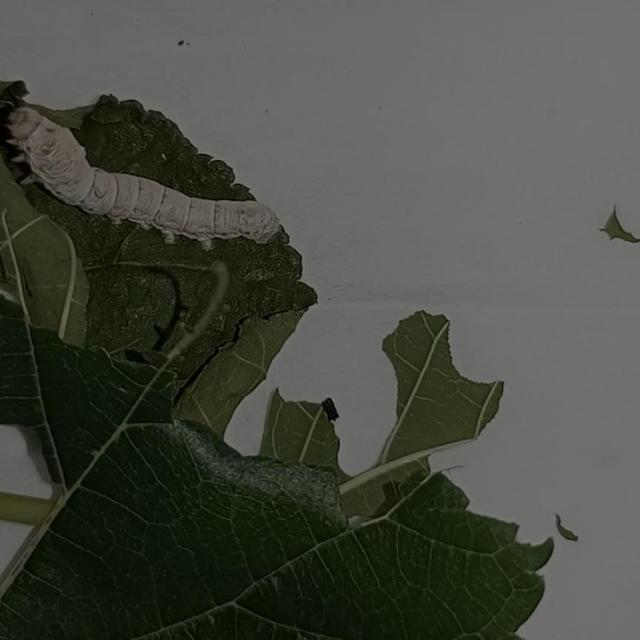Healthy: (4, 91, 292, 258)
